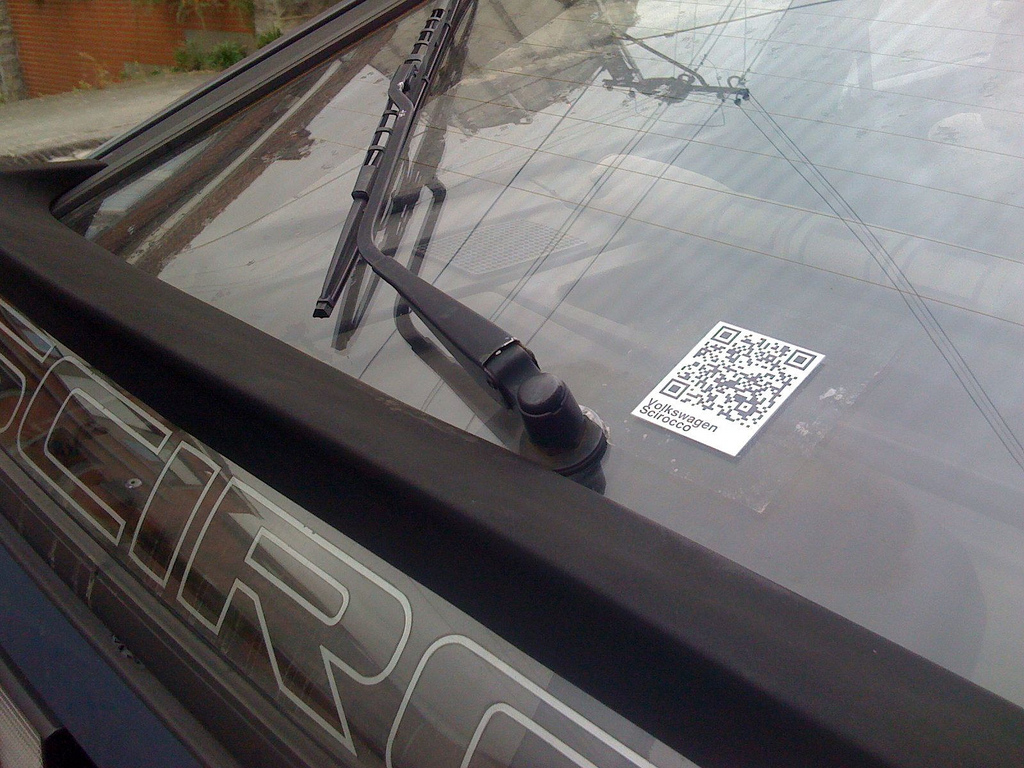QR-CODE: (659, 325, 816, 429)
